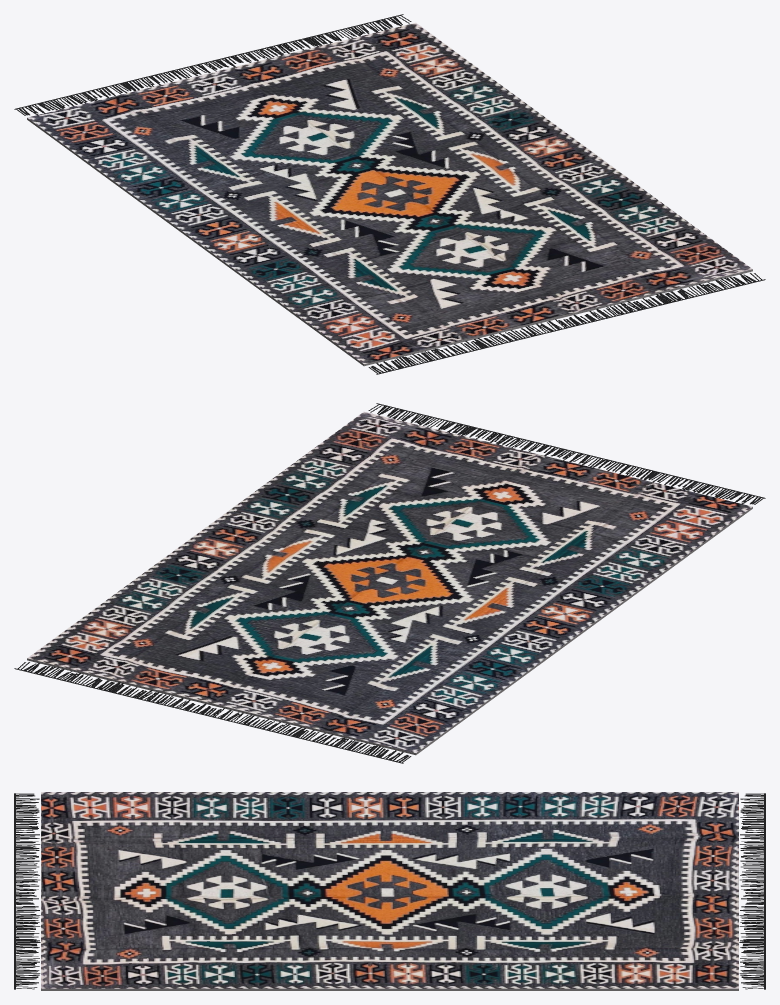
3 views of the same model, one above another, from view 1: azimuth 30°, elevation 25°; view 2: azimuth 150°, elevation 25°; view 3: azimuth 270°, elevation 25° (orthographic). The views are drawn at different scales.
Parts seen in each view (by area): view 1: rug, fringeB, fringeA, side; view 2: rug, fringeA, fringeB, side; view 3: rug, fringeA, fringeB, side.
Boxes of the visible parts, x1,y1,x2,y2 form: rug: (27, 23, 752, 363); fringeB: (368, 273, 765, 374); fringeA: (14, 14, 411, 115); side: (27, 118, 752, 366); rug: (27, 412, 752, 752); fringeA: (14, 662, 411, 763); fringeB: (368, 403, 765, 504); side: (27, 507, 752, 755); rug: (41, 792, 738, 988); fringeA: (739, 793, 765, 989); fringeB: (14, 793, 40, 989); side: (41, 988, 738, 990).
Size of what is drawn, in the model's own units: 1.2 by 0.00614 by 1.94.
2 materials, 2 textured.
